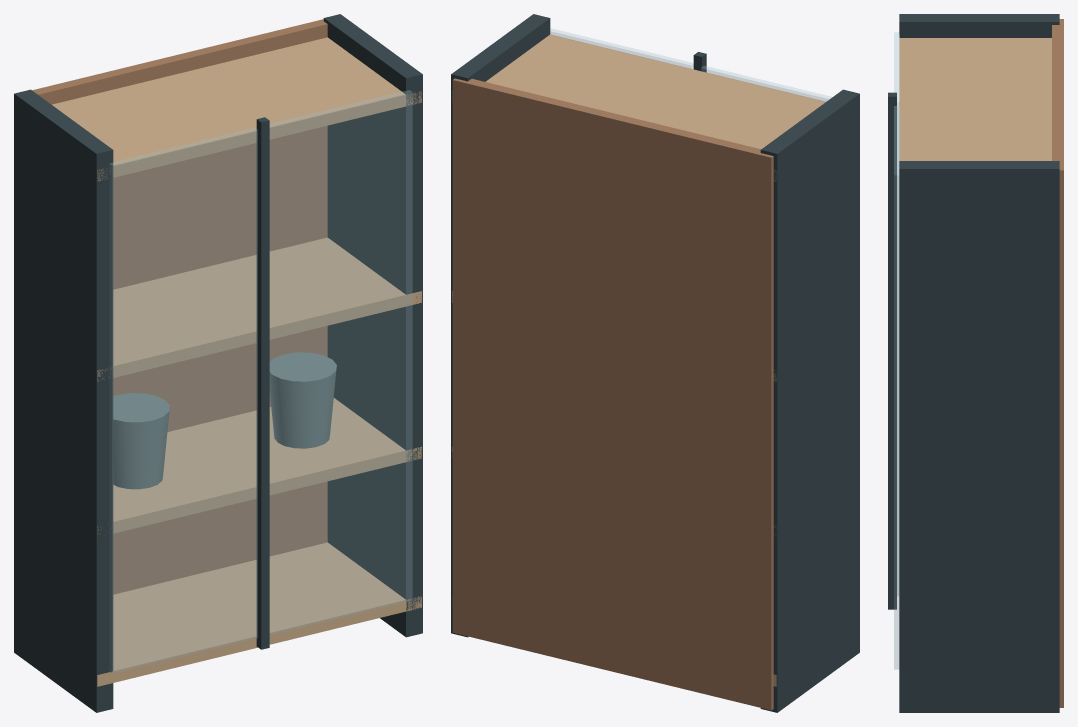
File: display_cabinet.glb
3 renders of one model, left to right at view 1: azimuth 30°, elevation 25°; view 2: azimuth 150°, elevation 25°; view 3: azimuth 270°, elevation 25°, orthographic. The views are drawn at different scales.
Parts seen in each view (by area): view 1: GlassLeft, GlassRight, CabinetSide, CabinetBack, _MeshInstance3D_57, _MeshInstance3D_60, CabinetShelf, _MeshInstance3D_59, _MeshInstance3D_58, DoorDivider, _MeshInstance3D_61, DisplayTrophy; view 2: CabinetBack, CabinetSide, _MeshInstance3D_60, _MeshInstance3D_57, GlassRight, GlassLeft; view 3: _MeshInstance3D_57, _MeshInstance3D_60, DoorDivider, CabinetBack, CabinetSide, GlassRight, GlassLeft.
Boxes of the visible parts, box(x1,y1,x2,y2) form: GlassLeft: box(109, 128, 257, 673); GlassRight: box(270, 90, 412, 634); CabinetSide: box(14, 89, 113, 712); CabinetBack: box(32, 19, 327, 594); _MeshInstance3D_57: box(323, 14, 422, 637); _MeshInstance3D_60: box(52, 37, 421, 181); CabinetShelf: box(97, 542, 421, 686); _MeshInstance3D_59: box(97, 237, 421, 381); _MeshInstance3D_58: box(97, 398, 421, 534); DoorDivider: box(256, 117, 269, 649); _MeshInstance3D_61: box(269, 352, 336, 448); DisplayTrophy: box(113, 393, 169, 489); CabinetBack: box(452, 78, 773, 710); CabinetSide: box(760, 89, 859, 712); _MeshInstance3D_60: box(452, 34, 825, 181); _MeshInstance3D_57: box(451, 14, 550, 637); GlassRight: box(550, 28, 693, 68); GlassLeft: box(701, 66, 831, 101); _MeshInstance3D_57: box(899, 161, 1059, 712); _MeshInstance3D_60: box(899, 38, 1051, 160); DoorDivider: box(888, 92, 896, 609); CabinetBack: box(1052, 19, 1063, 707); CabinetSide: box(899, 14, 1059, 37); GlassRight: box(894, 106, 899, 669); GlassLeft: box(894, 32, 899, 595).
Bounding box in the file's own units: 1.07 × 1.76 × 0.5155.
